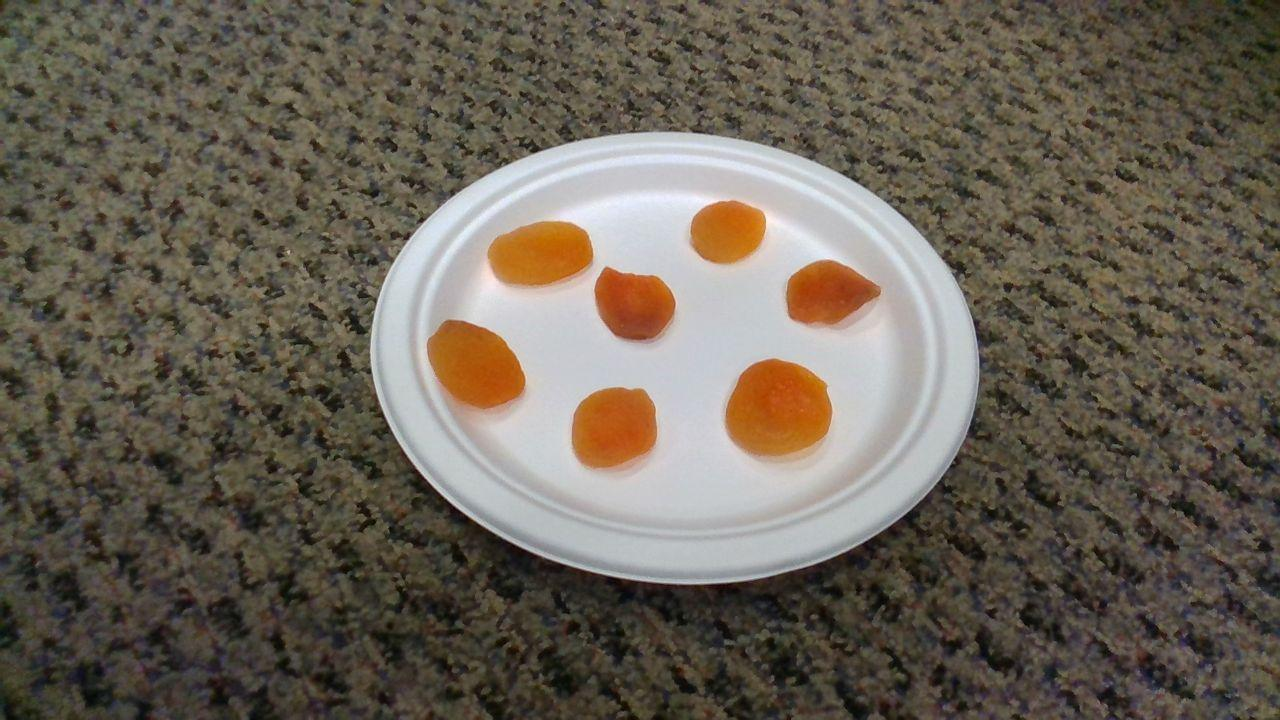apricot: (729, 360, 832, 453), (428, 321, 526, 408), (571, 389, 657, 466), (491, 221, 593, 284), (788, 260, 881, 323), (596, 267, 676, 340), (690, 202, 767, 261)
